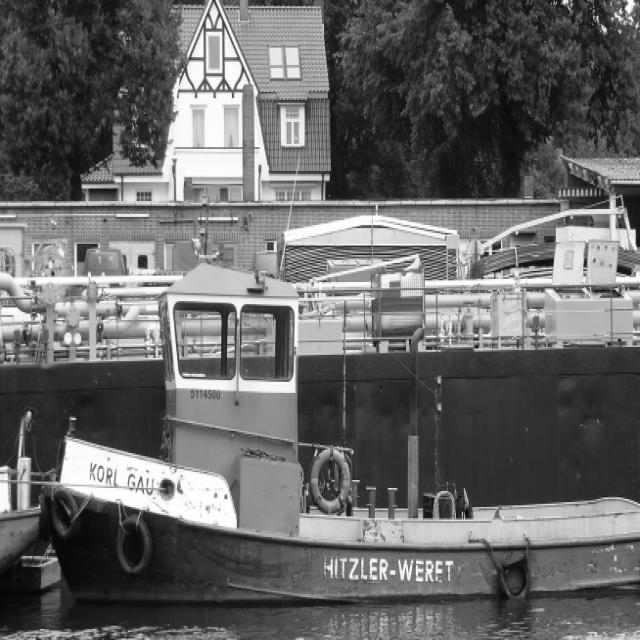tugboat: (33, 255, 640, 616)
